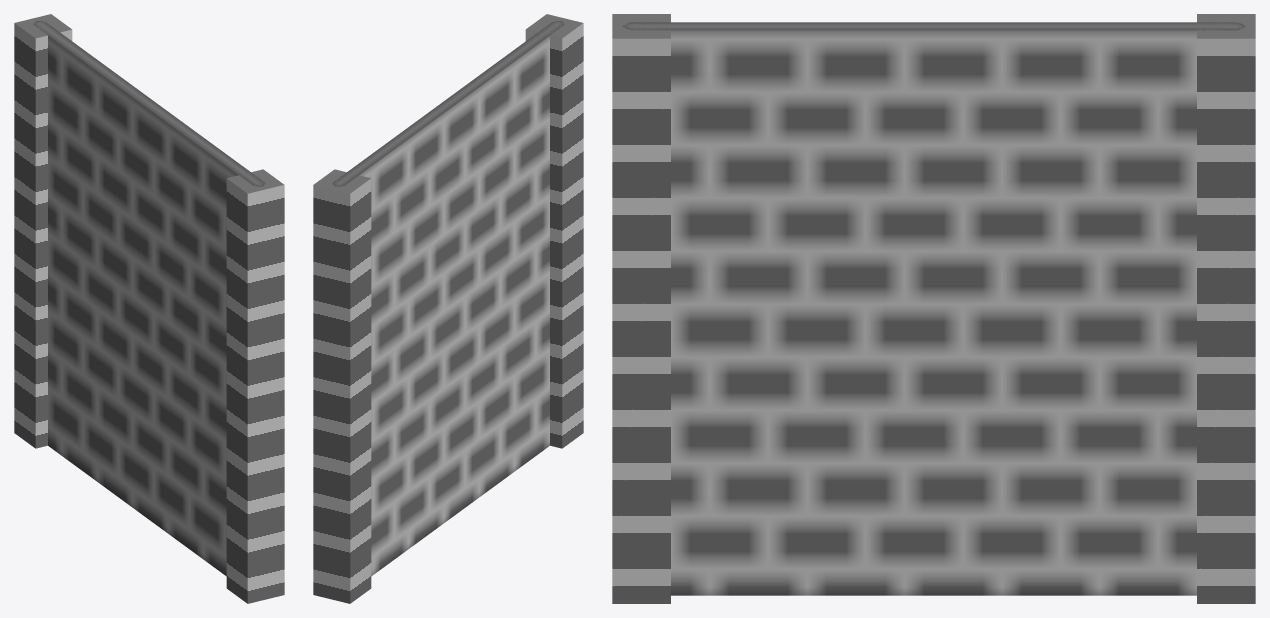
Rendered from Pared1.fbx.
The picture shows the model from 3 angles, left to right: view 1: azimuth 30°, elevation 25°; view 2: azimuth 150°, elevation 25°; view 3: azimuth 270°, elevation 25°; orthographic projection. The views are drawn at different scales.
Parts seen in each view (by area): view 1: Pared, Columna2, Columna1; view 2: Pared, Columna1, Columna2; view 3: Pared, Columna2, Columna1.
Part boxes in pixels (bbox=[...]): Pared: bbox=[33, 21, 265, 576]; Columna2: bbox=[226, 169, 284, 603]; Columna1: bbox=[14, 14, 72, 448]; Pared: bbox=[332, 21, 564, 576]; Columna1: bbox=[313, 169, 371, 603]; Columna2: bbox=[525, 14, 583, 448]; Pared: bbox=[622, 22, 1245, 595]; Columna2: bbox=[612, 14, 670, 603]; Columna1: bbox=[1197, 14, 1255, 603].
Size of the model in its own units: 18.75 by 200 by 206.
2 materials, 2 textured.
